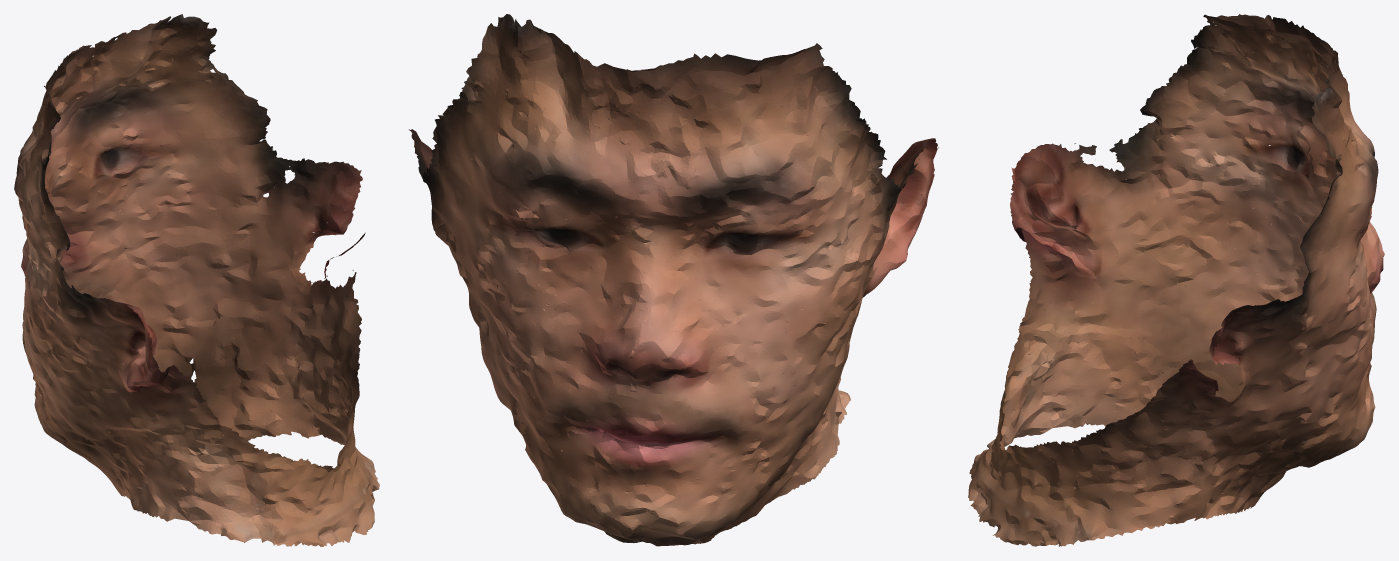
File: Daniel_Photogrammetry.fbx
3 renders of one model, left to right at view 1: azimuth 30°, elevation 25°; view 2: azimuth 150°, elevation 25°; view 3: azimuth 270°, elevation 25°, orthographic. The views are drawn at different scales.
Visible parts, largest first — view 1: texturedMesh; view 2: texturedMesh; view 3: texturedMesh.
Boxes of the visible parts, x1,y1,x2,y2 form: texturedMesh: [14, 14, 379, 546]; texturedMesh: [408, 14, 938, 546]; texturedMesh: [968, 14, 1384, 546].
Size of the model in its own units: 24.01 by 28.29 by 24.08.
Materials: 3 (3 with a texture image).
